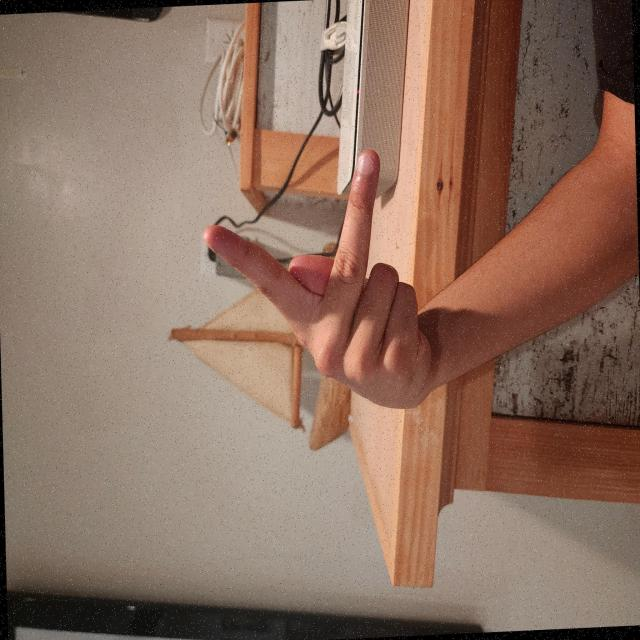K: (166, 265, 375, 590)
